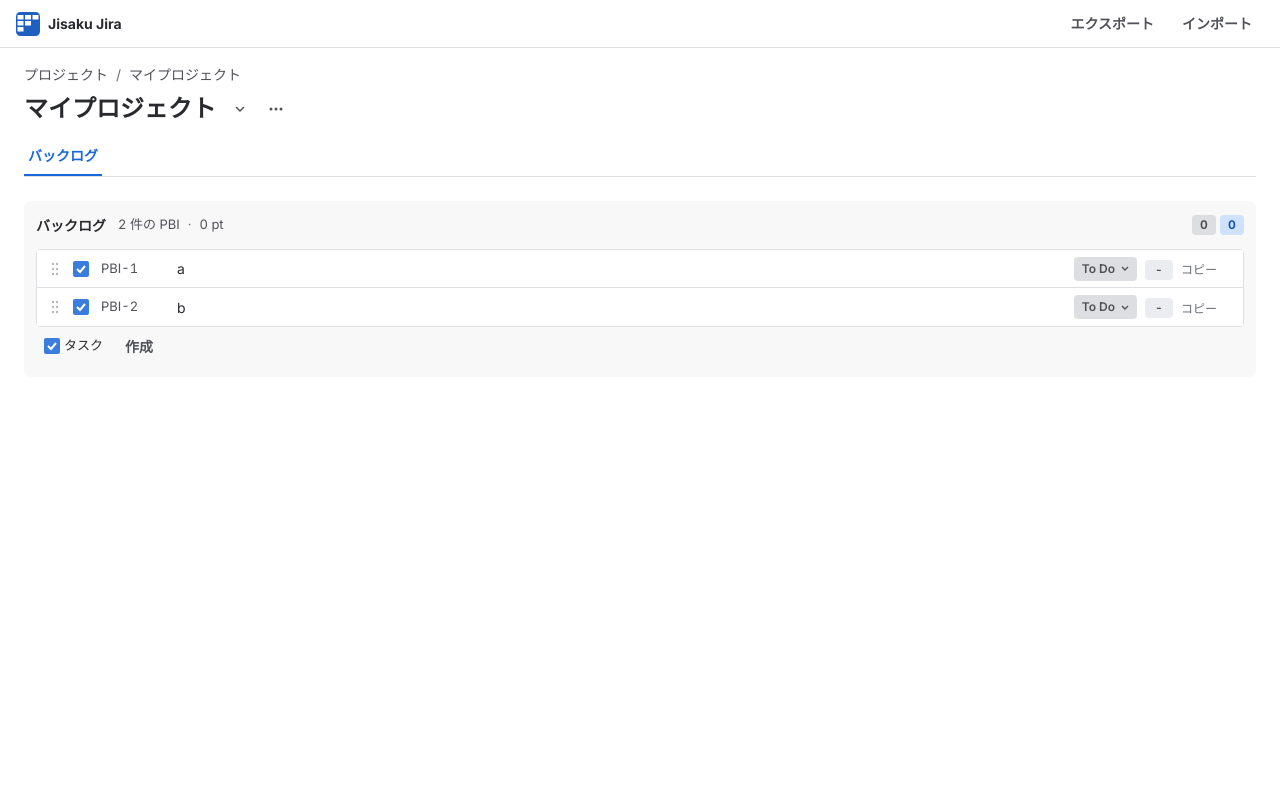
Test case: 詳細パネル › 行を選ぶと詳細を開き、URL ハッシュに反映する
The image size is (1280, 800).
Click the button "b".
click(181, 307)  # box [177,296,186,318]
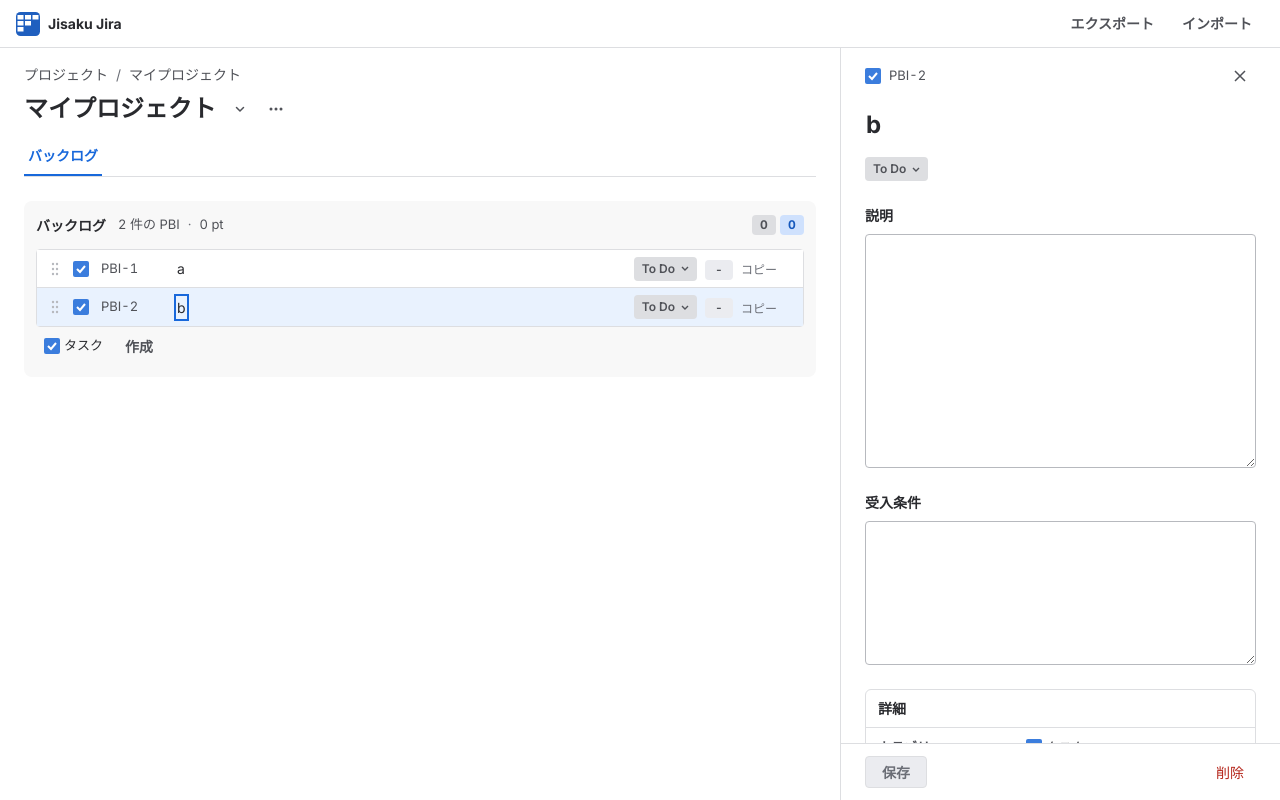
Now the heading "PBI-2" is shown, box [865,66,926,86]
Now the text box named "タイトル" holds "b", box [857,104,1264,145]
